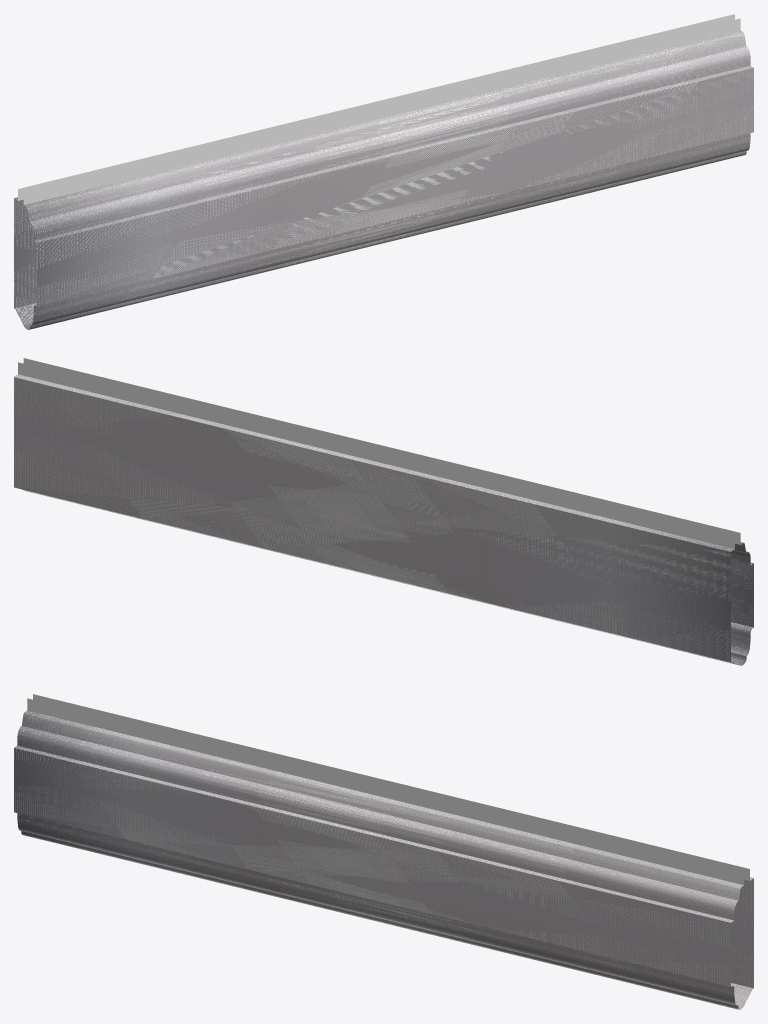
The model's file is original-54.obj.
3 views of the same model, one above another, from view 1: azimuth 30°, elevation 25°; view 2: azimuth 150°, elevation 25°; view 3: azimuth 330°, elevation 25° (orthographic).
Visible parts, largest first — view 1: RT_11_BC1/RT_11_BC/mesh43/mesh43-geometry#mesh43-geometry; view 2: RT_11_BC1/RT_11_BC/mesh43/mesh43-geometry#mesh43-geometry; view 3: RT_11_BC1/RT_11_BC/mesh43/mesh43-geometry#mesh43-geometry.
Part boxes in pixels (x1,y1,x2,y2): RT_11_BC1/RT_11_BC/mesh43/mesh43-geometry#mesh43-geometry: (14,14,753,329); RT_11_BC1/RT_11_BC/mesh43/mesh43-geometry#mesh43-geometry: (14,358,753,665); RT_11_BC1/RT_11_BC/mesh43/mesh43-geometry#mesh43-geometry: (14,694,753,1009).
Size of the model in its own units: 0.5097 by 0.0909 by 0.0284.
